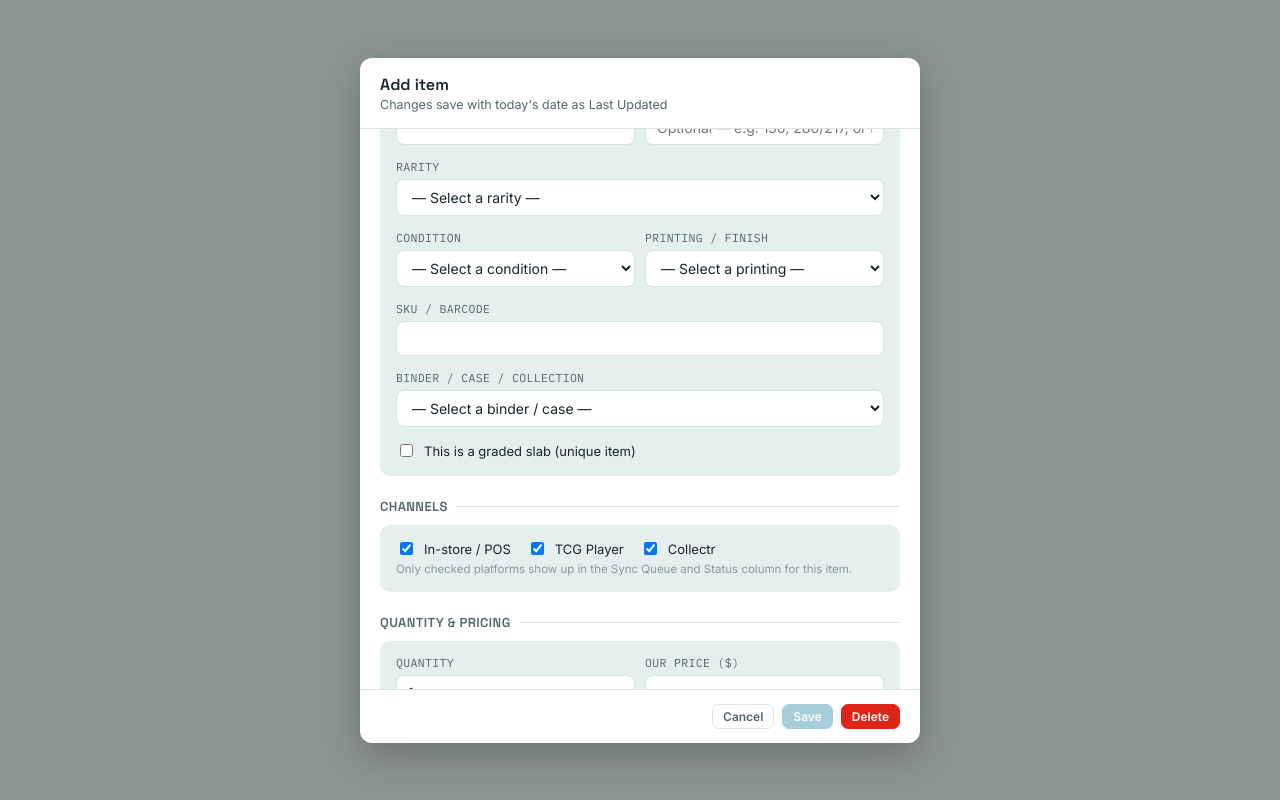
EditModal — per-location channel defaults › follows the majority channel usage of the chosen location for a brand-new item
The image size is (1280, 800).
(page scrolled)
Select "Binder A" in the dropdown named "Binder / case / collection" at (640, 408), box 396,390 -> 884,427
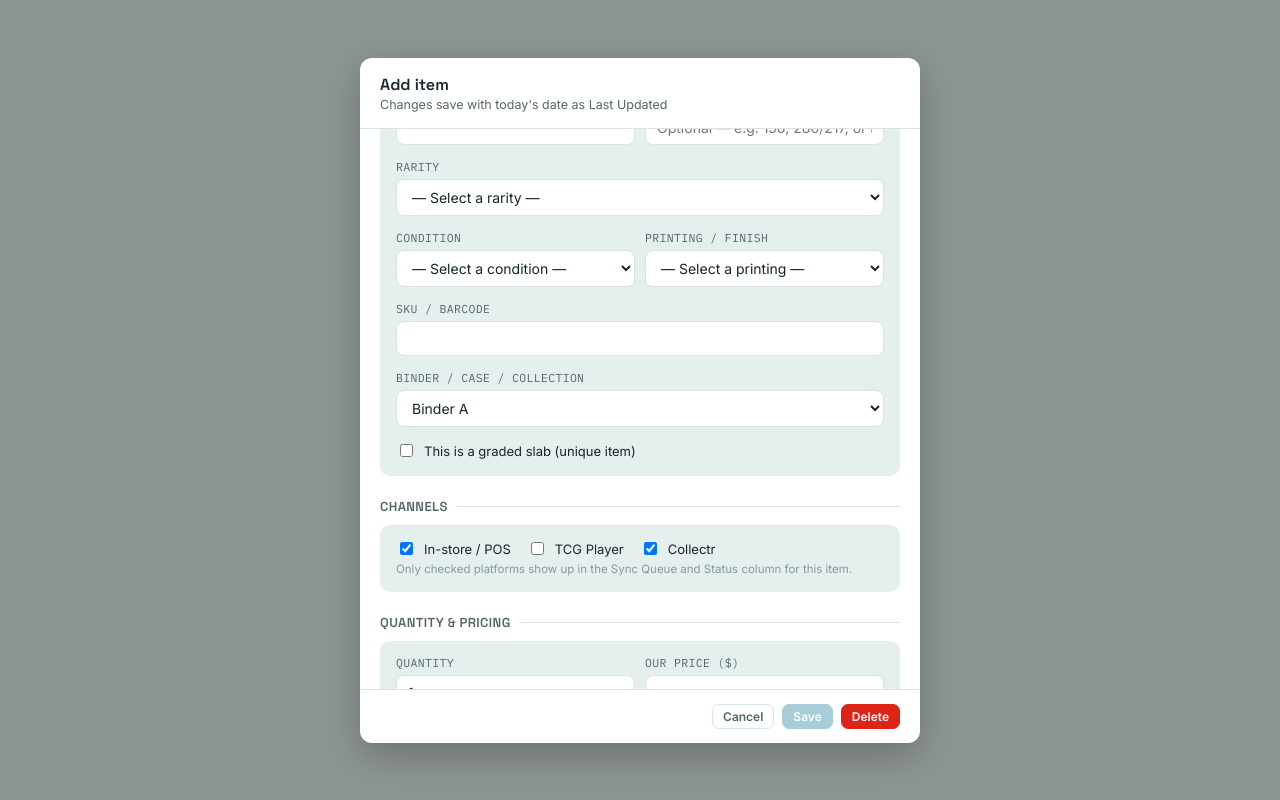
Check: the checkbox labelled "In-store / POS" is checked, box 400,542 -> 413,555
Check: the checkbox labelled "TCG Player" is not checked, box 531,542 -> 544,555
